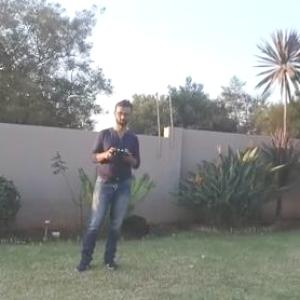follow: (67, 96, 141, 275)
